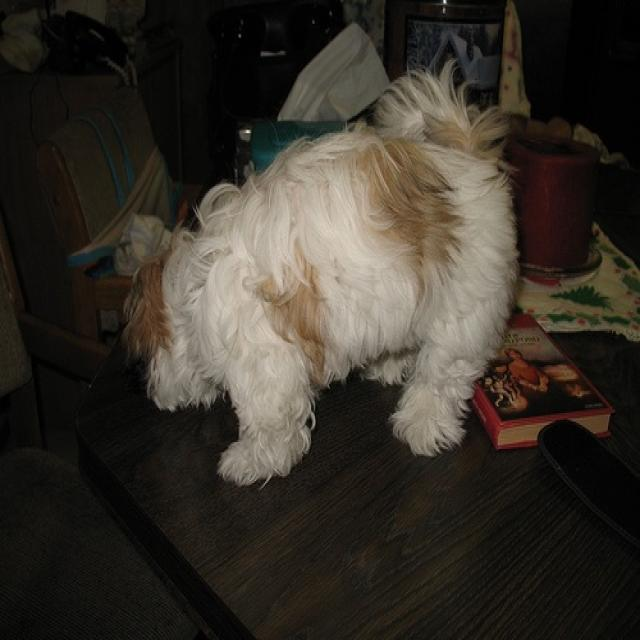dog: (123, 65, 516, 483)
